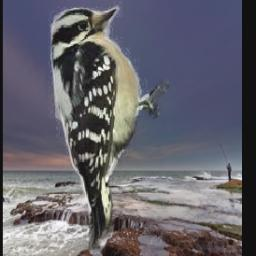Woodpecker: (48, 2, 170, 251)
